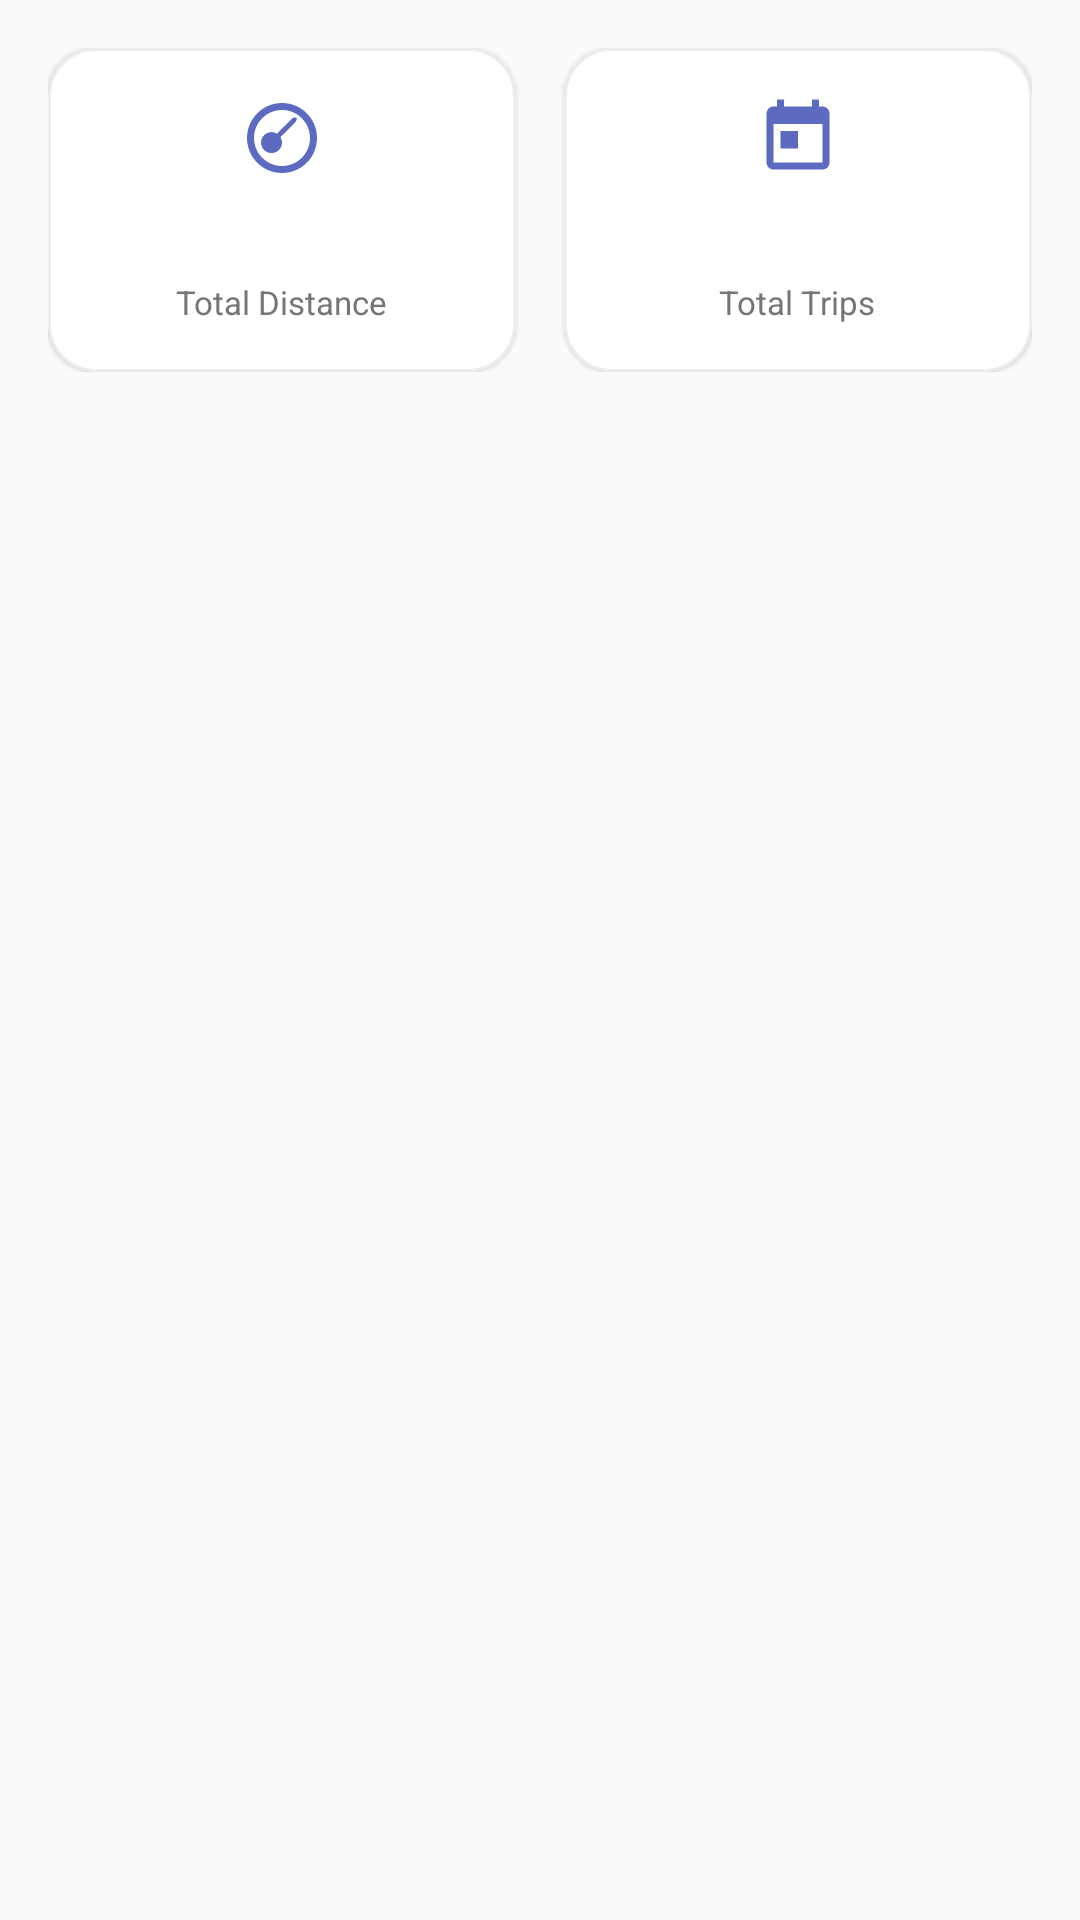

Icons on this 1080px×1920px Android screen, each with its box as (x1, y1, x2, y2):
calendar: (766, 99, 830, 170)
speed: (247, 103, 317, 173)
